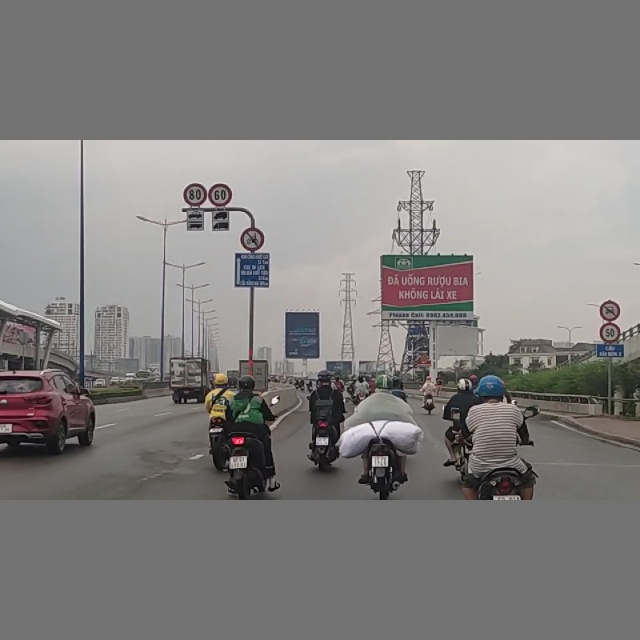P.103a: (600, 300, 620, 321)
P.104: (241, 227, 264, 250)
P.127*50: (599, 324, 620, 344)
P.127*60: (211, 185, 232, 207)
P.127*80: (183, 183, 206, 205)
